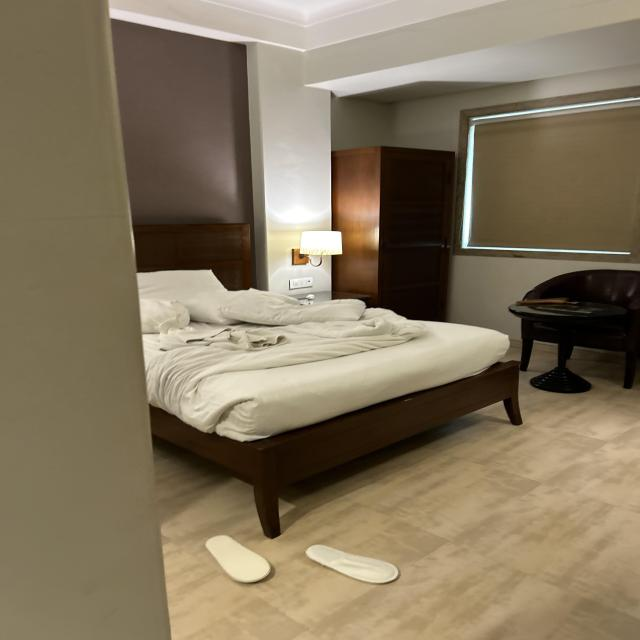mess: (144, 487, 485, 640), (140, 289, 500, 396)
